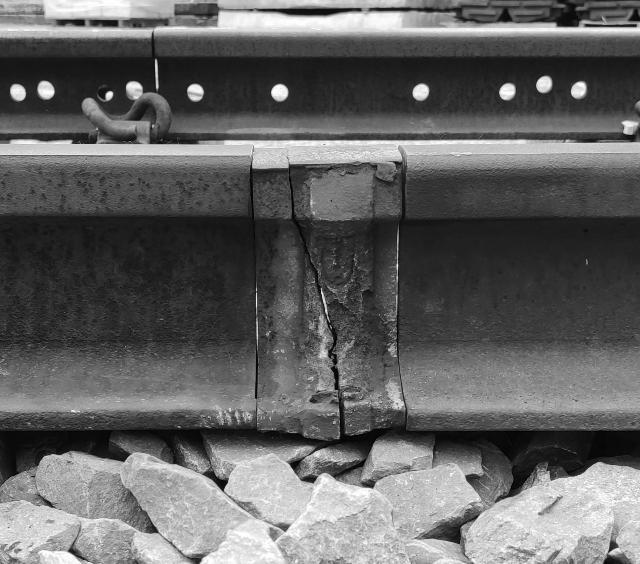railway-gap: (212, 129, 443, 448), (121, 22, 196, 95)
